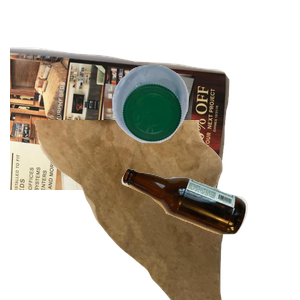glass: (119, 166, 300, 300)
paper: (10, 44, 232, 224)
plastic: (110, 62, 300, 198)
trash: (32, 120, 248, 300)
